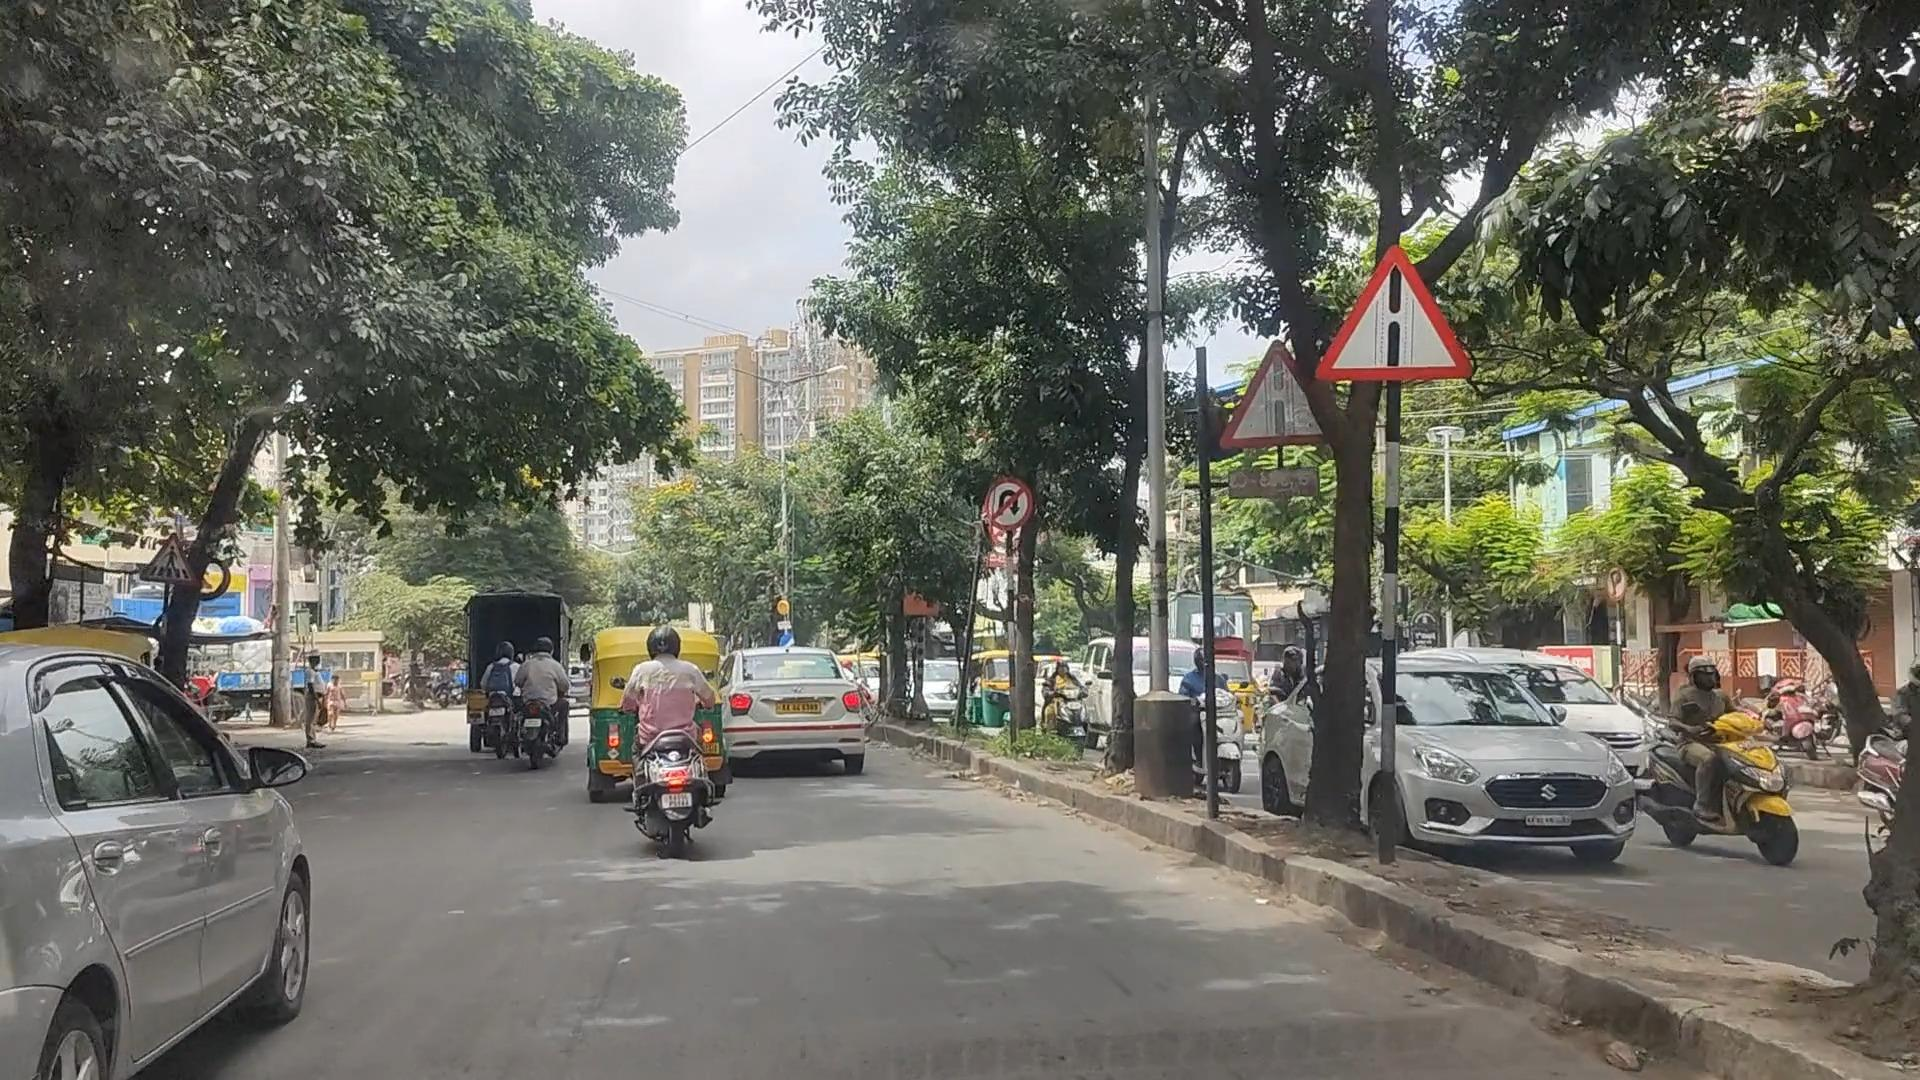LMV: (0, 654, 310, 1077), (618, 630, 709, 847), (720, 650, 860, 785)
